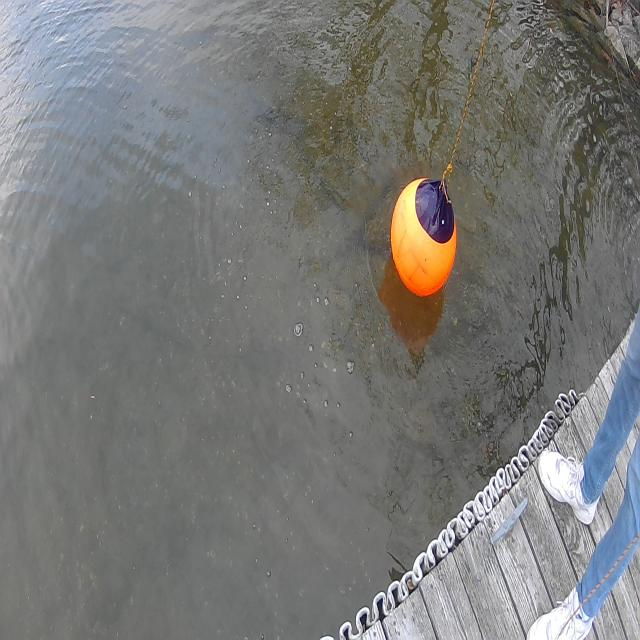Buoy: (387, 168, 461, 313)
